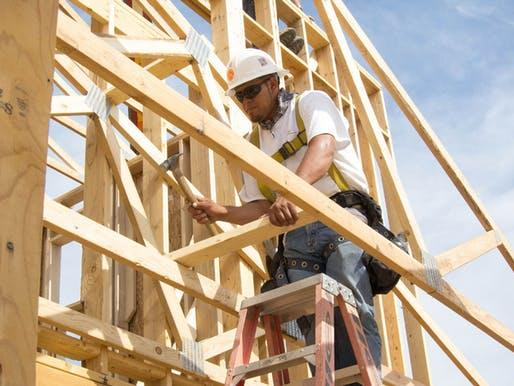helmet: (228, 47, 288, 98)
